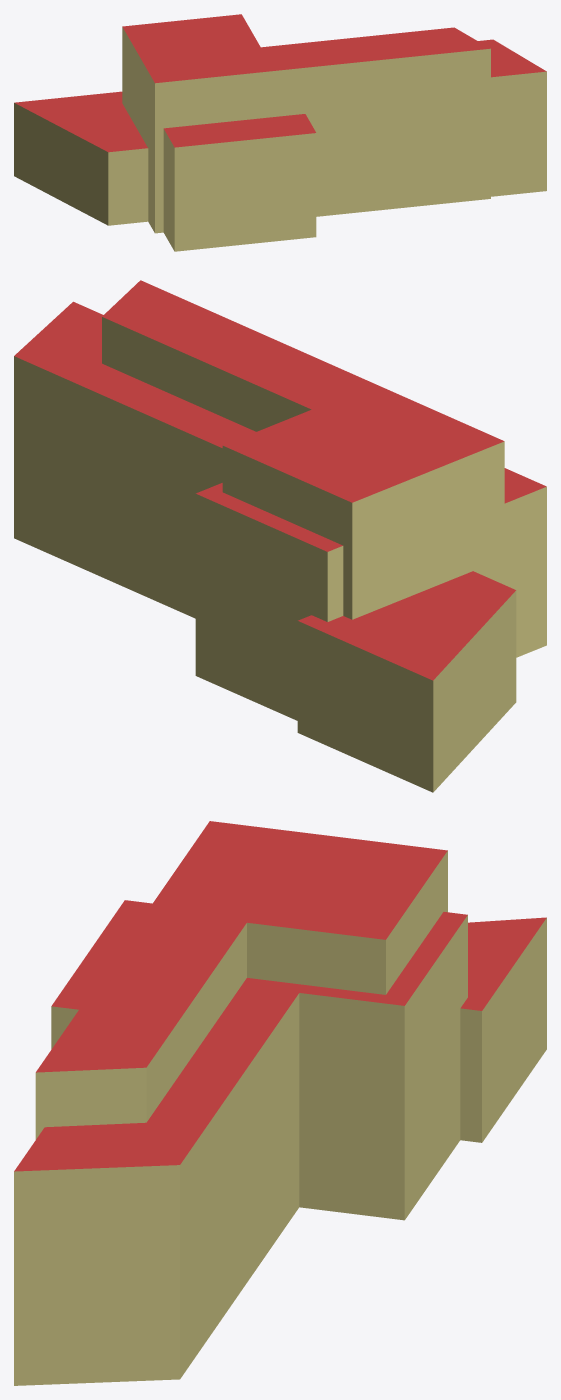
The picture shows the model from 3 angles, top to bottom: view 1: azimuth 30°, elevation 25°; view 2: azimuth 150°, elevation 25°; view 3: azimuth 270°, elevation 25°; orthographic projection. The views are drawn at different scales.
Visible parts, largest first — view 1: group_4, group_7, group_3, group_10, group_13, group_9, group_6, group_12; view 2: group_13, group_4, group_3, group_10, group_12, group_9, group_7, group_6; view 3: group_13, group_3, group_4, group_12, group_10, group_9, group_6.
Part boxes in pixels (box(x1,y1,x2,y2)): group_4: box(122, 27, 490, 233); group_7: box(163, 129, 316, 251); group_3: box(122, 14, 489, 83); group_10: box(14, 103, 148, 225); group_13: box(491, 71, 546, 196); group_9: box(14, 91, 147, 152); group_6: box(163, 114, 315, 147); group_12: box(478, 39, 546, 77); group_13: box(14, 356, 343, 720); group_4: box(102, 317, 504, 619); group_3: box(102, 280, 504, 502); group_10: box(297, 590, 516, 792); group_12: box(14, 301, 342, 551); group_9: box(298, 571, 515, 680); group_7: box(504, 486, 546, 657); group_6: box(504, 468, 546, 503); group_13: box(14, 915, 467, 1385); group_3: box(36, 821, 447, 1072); group_4: box(35, 851, 447, 1139); group_12: box(14, 912, 467, 1171); group_10: box(460, 918, 546, 1142); group_9: box(461, 917, 546, 1010); group_6: box(51, 900, 152, 1009).
Bounding box in the file's own units: 30.65 × 20.51 × 11.44.
